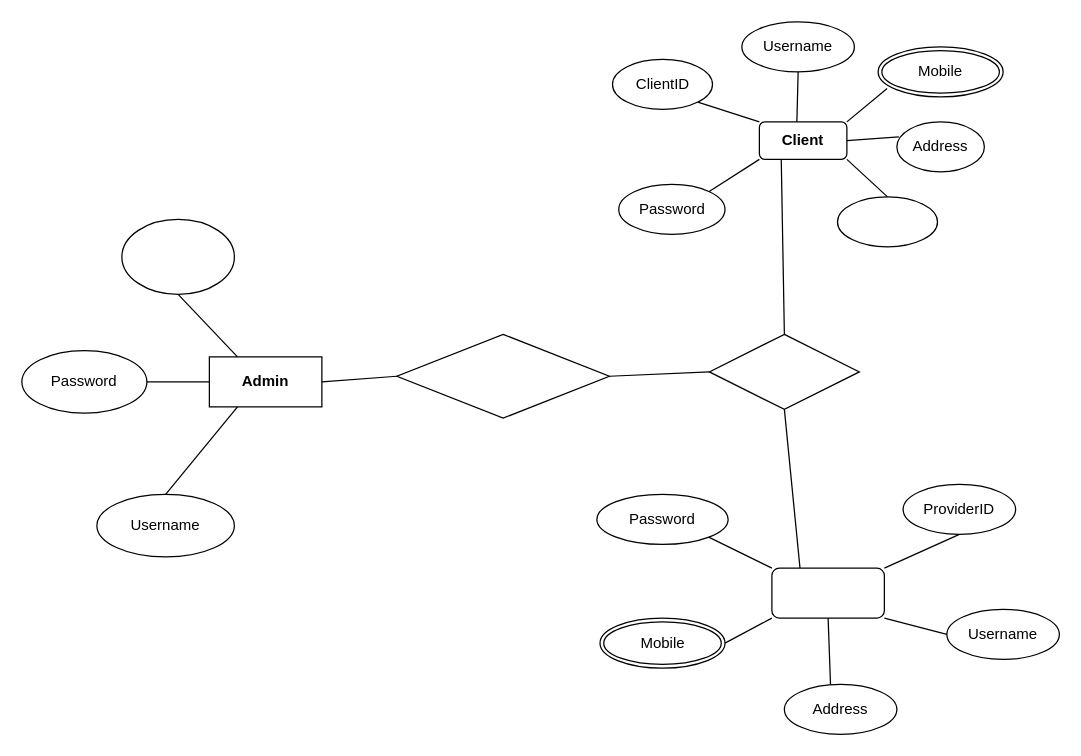
This 1081x756 diagram has some shape labels left out. The centre of each missing label's shape, as x and y in pixels:
AdminID: pixel 177 256
Buy Loans: pixel 783 371
Income: pixel 887 221
Manage User Access: pixel 502 375
Provider: pixel 827 592
